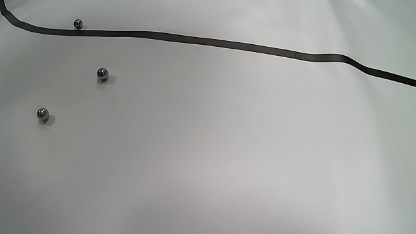ironball: (37, 108, 49, 121), (96, 67, 108, 80), (73, 18, 83, 29)
